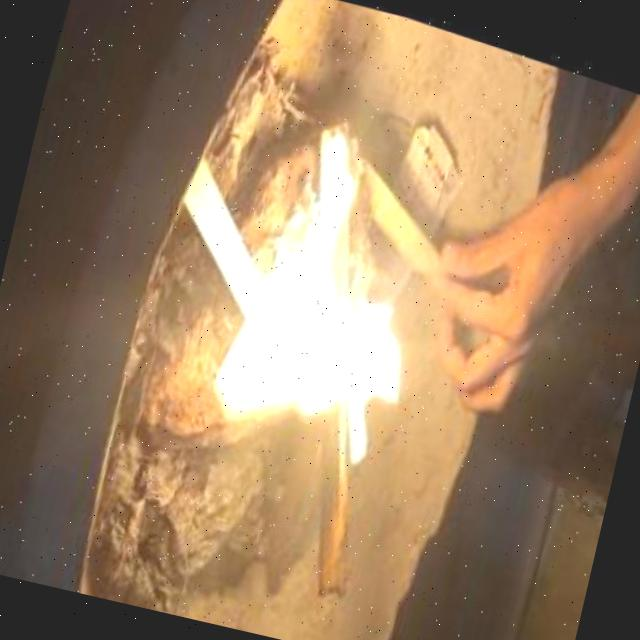fire: (165, 86, 463, 502)
